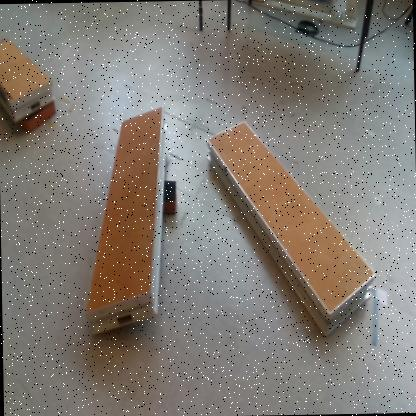Stairs: (208, 123, 375, 339), (84, 105, 168, 337), (1, 39, 55, 122)
